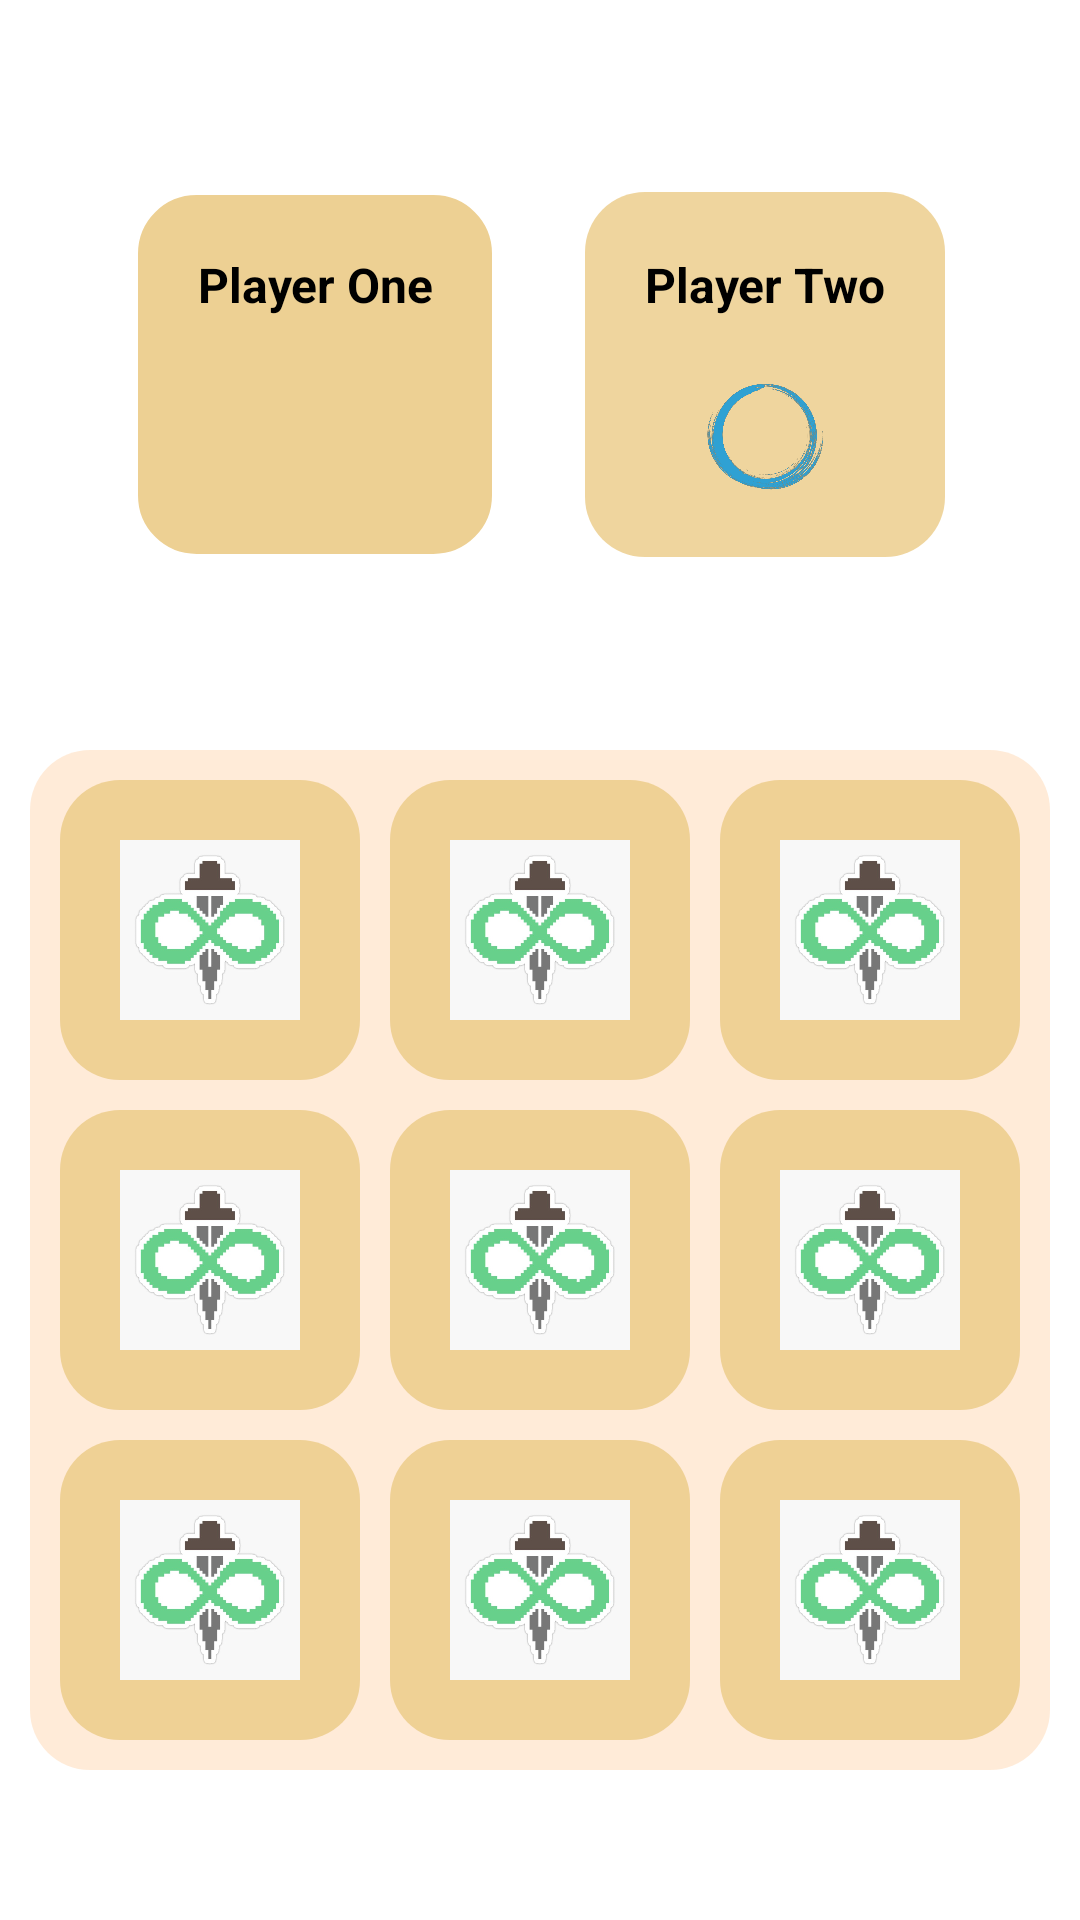

Named icons in this screenshot (1080w x 1920h) and their bounding boxes, (x1,y1,x2,y2):
circle: (707,384,823,490)
